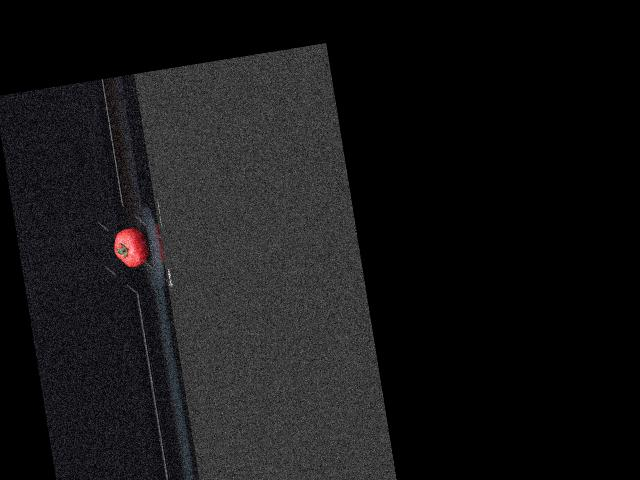tomato: (111, 225, 151, 269)
